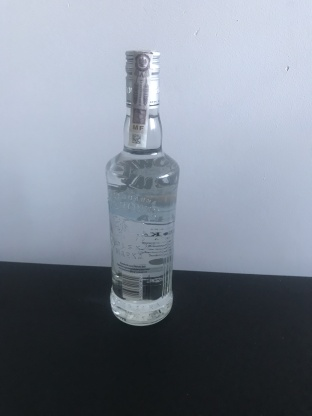nakretka: (122, 45, 163, 111)
